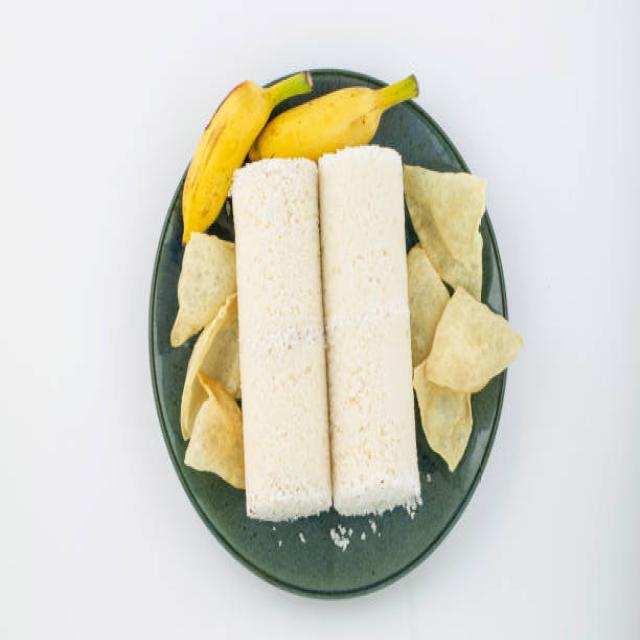BANANA: (181, 72, 419, 247)
PUTTU: (232, 146, 423, 526)
